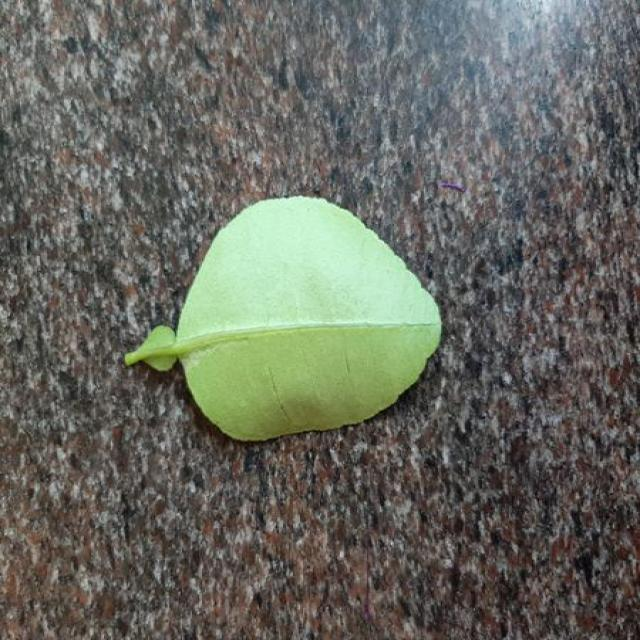lemon: (125, 198, 440, 441)
